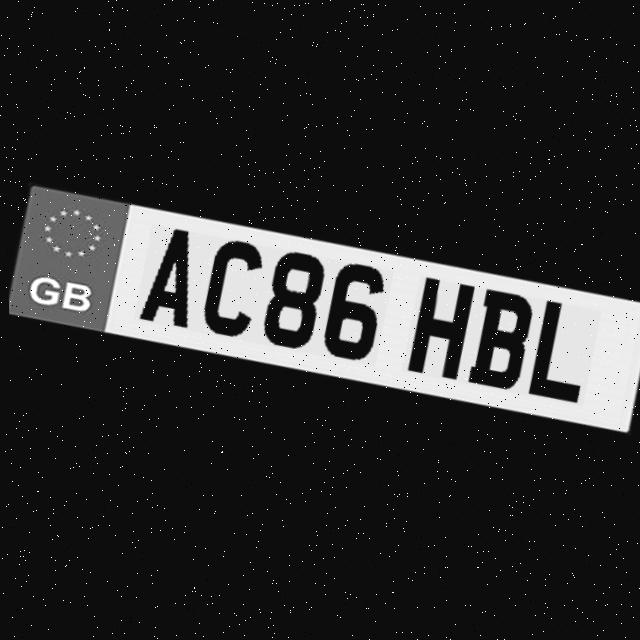license-plates: (9, 186, 640, 431)
